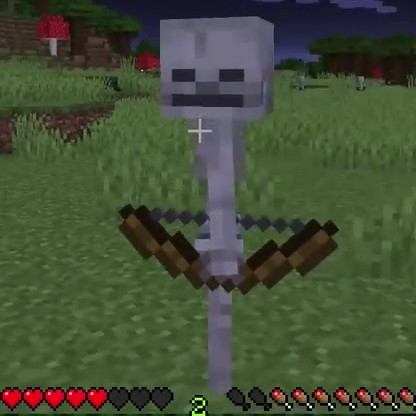skeleton: (156, 16, 277, 382)
